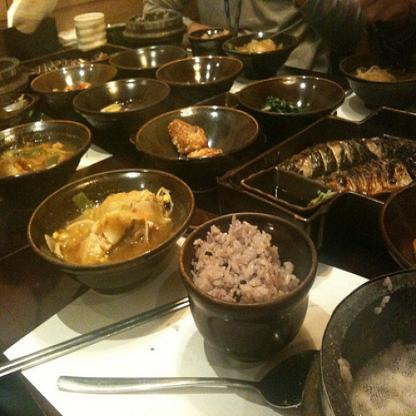Peixe: (299, 127, 416, 201)
